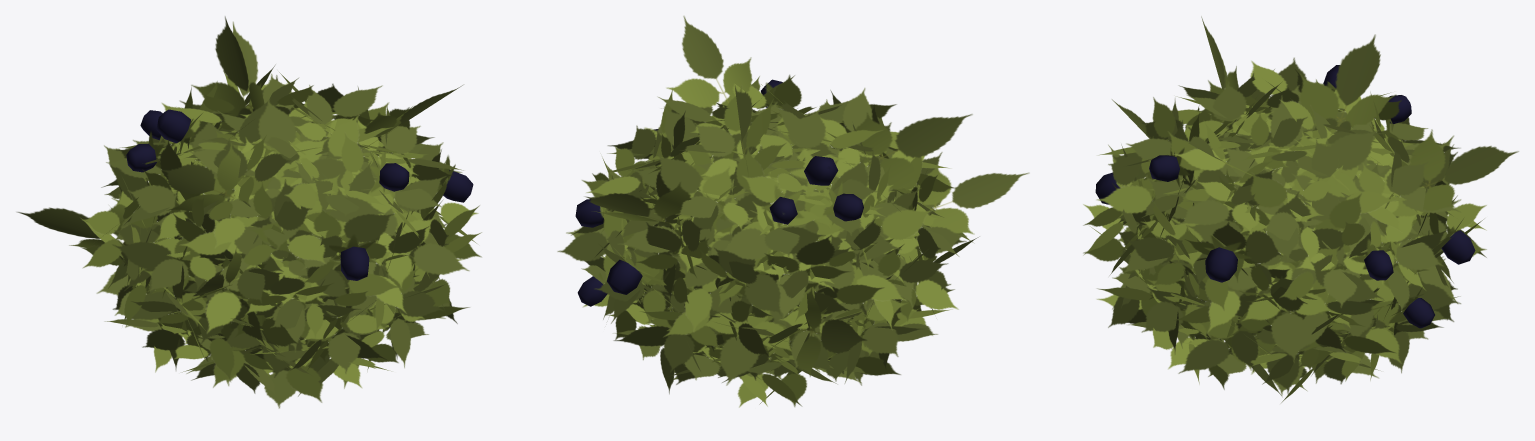
The model's file is Blackberry_Bush_2b.glb.
3 views of the same model, side by side, from view 1: azimuth 30°, elevation 25°; view 2: azimuth 150°, elevation 25°; view 3: azimuth 270°, elevation 25° (orthographic).
Visible parts, largest first — view 1: Blackberry_Bush_2b; view 2: Blackberry_Bush_2b; view 3: Blackberry_Bush_2b.
Part boxes in pixels (<box>): Blackberry_Bush_2b: <box>17,16,481,408</box>; Blackberry_Bush_2b: <box>557,16,1029,407</box>; Blackberry_Bush_2b: <box>1083,16,1518,402</box>.
Size of the model in its own units: 1.17 by 1.01 by 1.17.
1 material, 1 textured.
